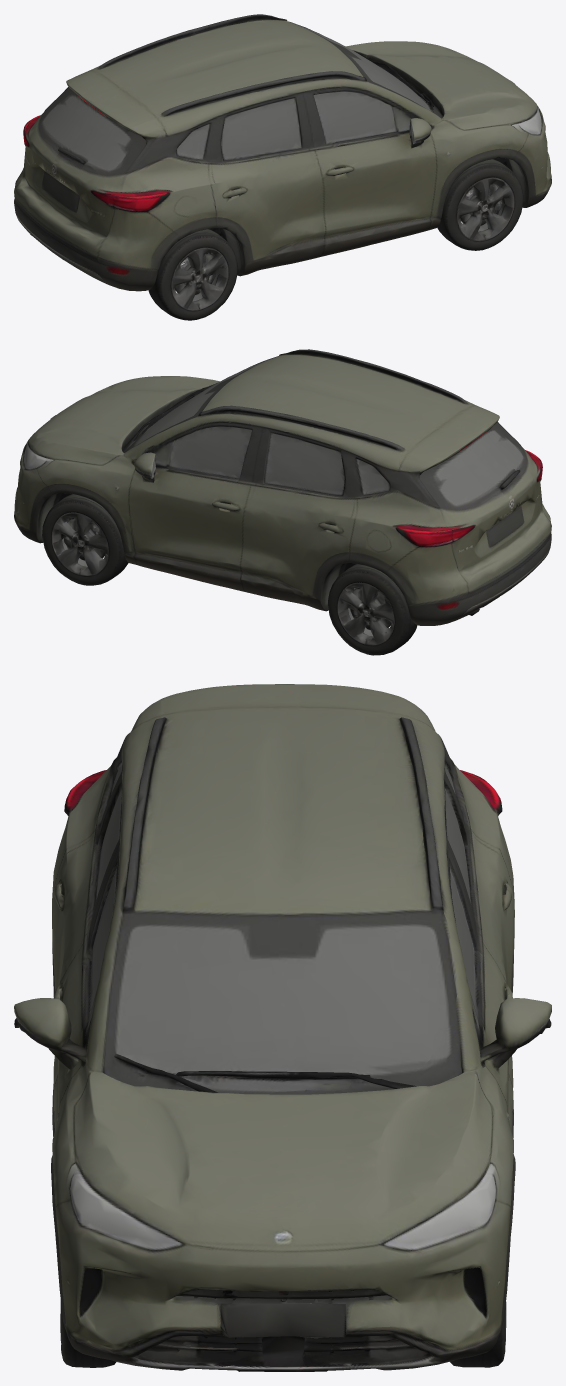
Rendered from ev-boxy-suv.glb.
The picture shows the model from 3 angles, top to bottom: view 1: azimuth 30°, elevation 25°; view 2: azimuth 150°, elevation 25°; view 3: azimuth 270°, elevation 25°; orthographic projection. The views are drawn at different scales.
Parts seen in each view (by area): view 1: tripo_node_a2305b5d-39a7-4478-b13d-02d721a10d93; view 2: tripo_node_a2305b5d-39a7-4478-b13d-02d721a10d93; view 3: tripo_node_a2305b5d-39a7-4478-b13d-02d721a10d93.
Boxes of the visible parts, <box> form: tripo_node_a2305b5d-39a7-4478-b13d-02d721a10d93: <box>14,14,551,320</box>; tripo_node_a2305b5d-39a7-4478-b13d-02d721a10d93: <box>14,349,551,655</box>; tripo_node_a2305b5d-39a7-4478-b13d-02d721a10d93: <box>14,684,551,1371</box>.
Bounding box in the file's own units: 3.93 × 1.6 × 2.02.
Materials: 1 (1 with a texture image).
